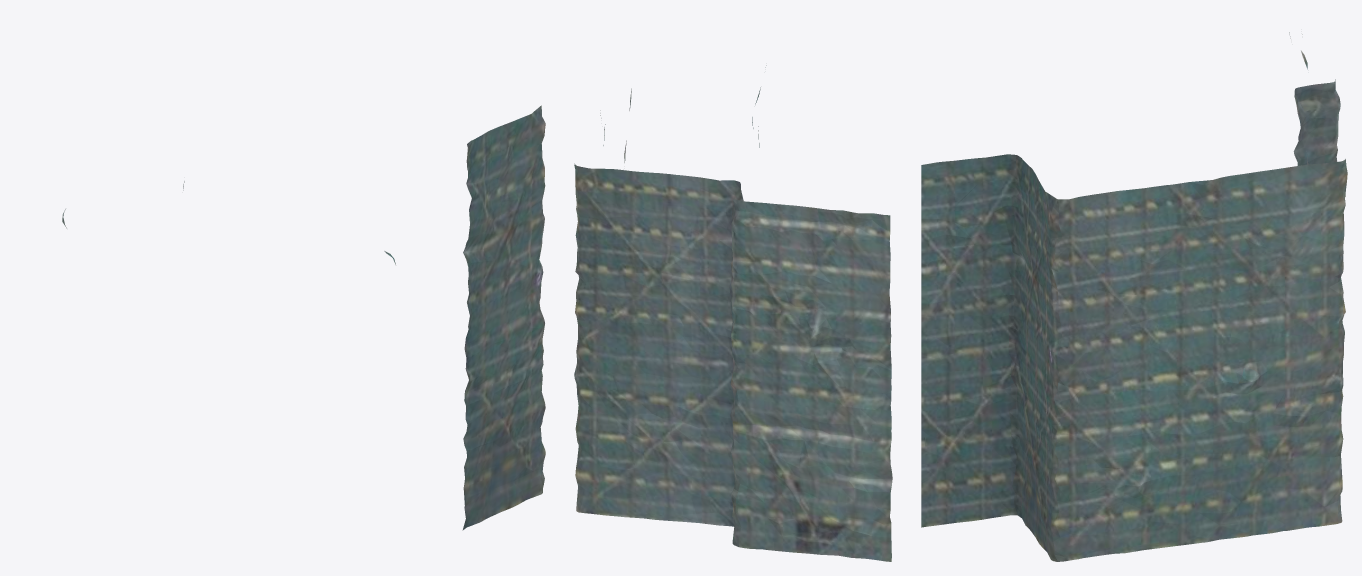
Rendered from Tile_+003_+002_L22_00040600.glb.
The picture shows the model from 3 angles, left to right: view 1: azimuth 30°, elevation 25°; view 2: azimuth 150°, elevation 25°; view 3: azimuth 270°, elevation 25°; orthographic projection. The views are drawn at different scales.
Visible parts, largest first — view 1: rtc; view 2: rtc; view 3: rtc.
Part boxes in pixels (box(x1,y1,x2,y2)): rtc: box(62, 105, 545, 530); rtc: box(574, 65, 892, 561); rtc: box(921, 32, 1347, 561).
Bounding box in the file's own units: 12.71 × 11.52 × 12.28.
Materials: 1 (1 with a texture image).
